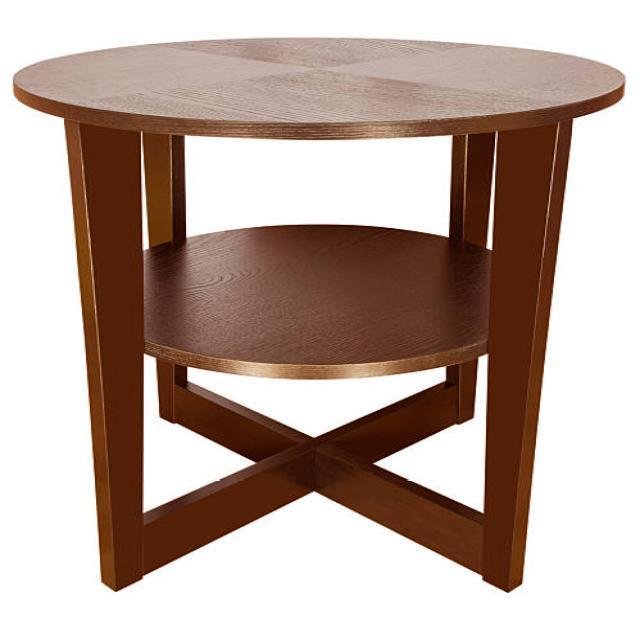table: (11, 35, 626, 593)
